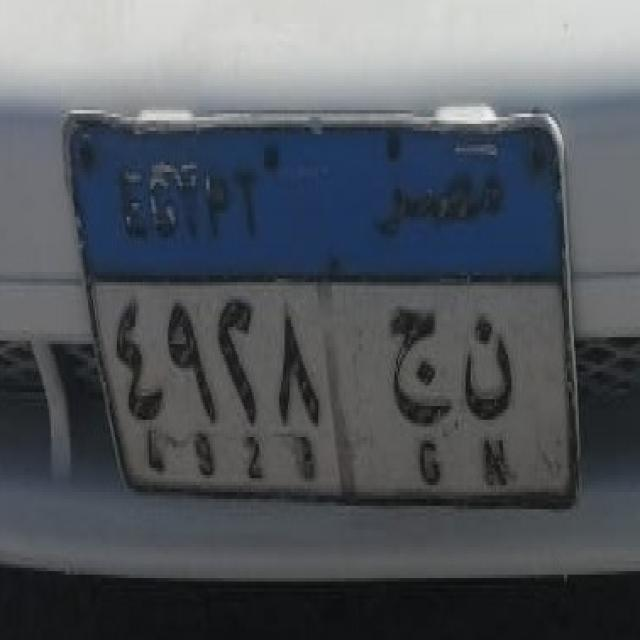2: (216, 287, 270, 430)
4: (110, 288, 170, 436)
8: (270, 295, 326, 434)
9: (168, 292, 222, 424)
Noon: (456, 294, 530, 436)
geem: (382, 300, 456, 440)
